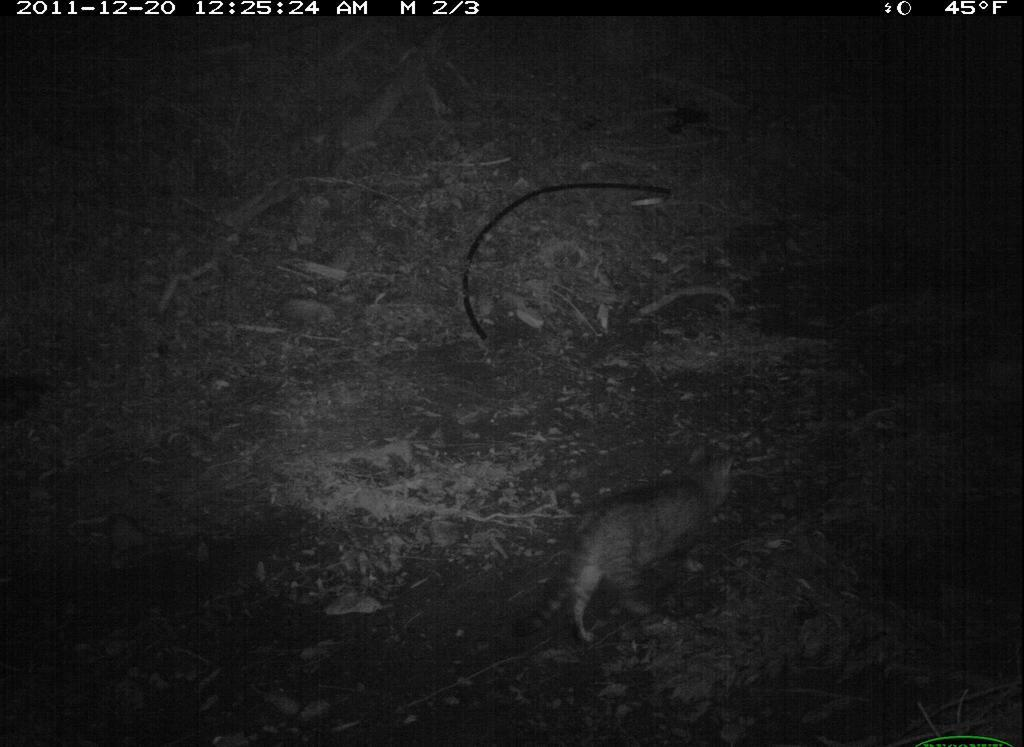cat: (513, 441, 747, 651)
